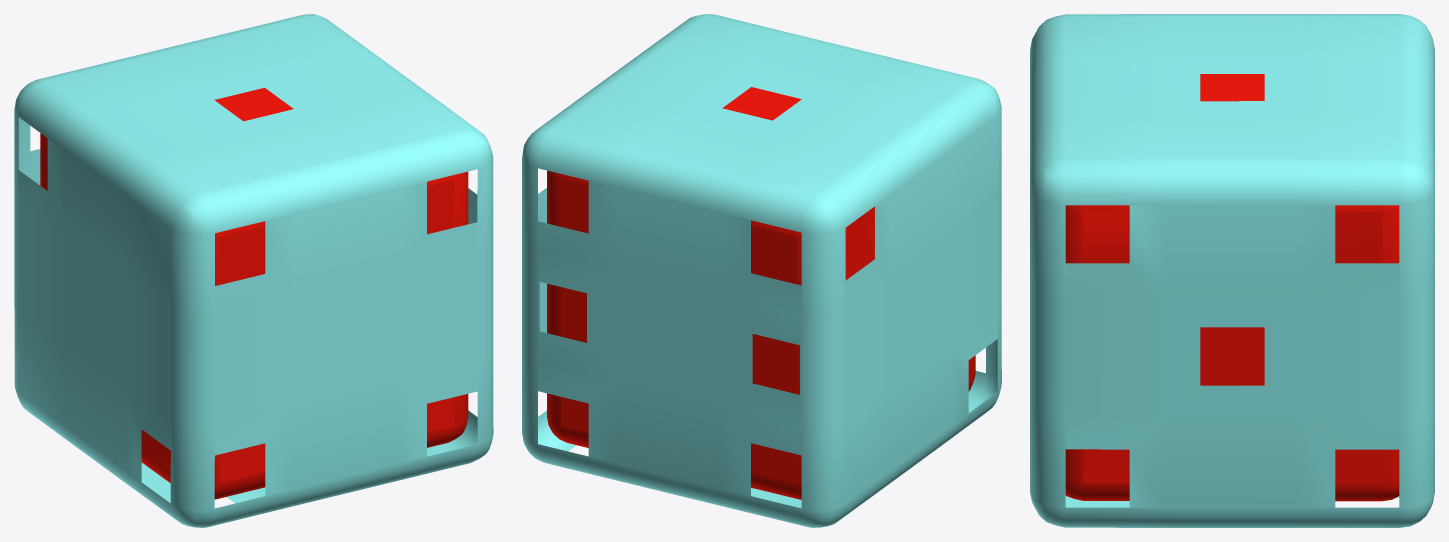
File: PotionDice.fbx
3 renders of one model, left to right at view 1: azimuth 30°, elevation 25°; view 2: azimuth 150°, elevation 25°; view 3: azimuth 270°, elevation 25°, orthographic. The views are drawn at different scales.
Parts seen in each view (by area): view 1: Potion; view 2: Potion; view 3: Potion.
Part boxes in pixels (x1,y1,x2,y2): Potion: [14, 14, 493, 527]; Potion: [522, 14, 1001, 527]; Potion: [1030, 14, 1434, 527].
Bounding box in the file's own units: 200 × 200 × 200.
